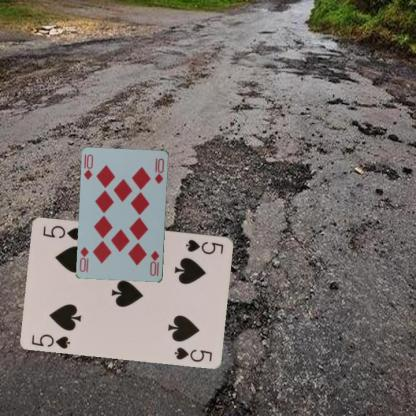10d: (147, 248, 161, 278), (81, 152, 95, 181)
5s: (183, 236, 225, 256), (30, 331, 72, 350)
